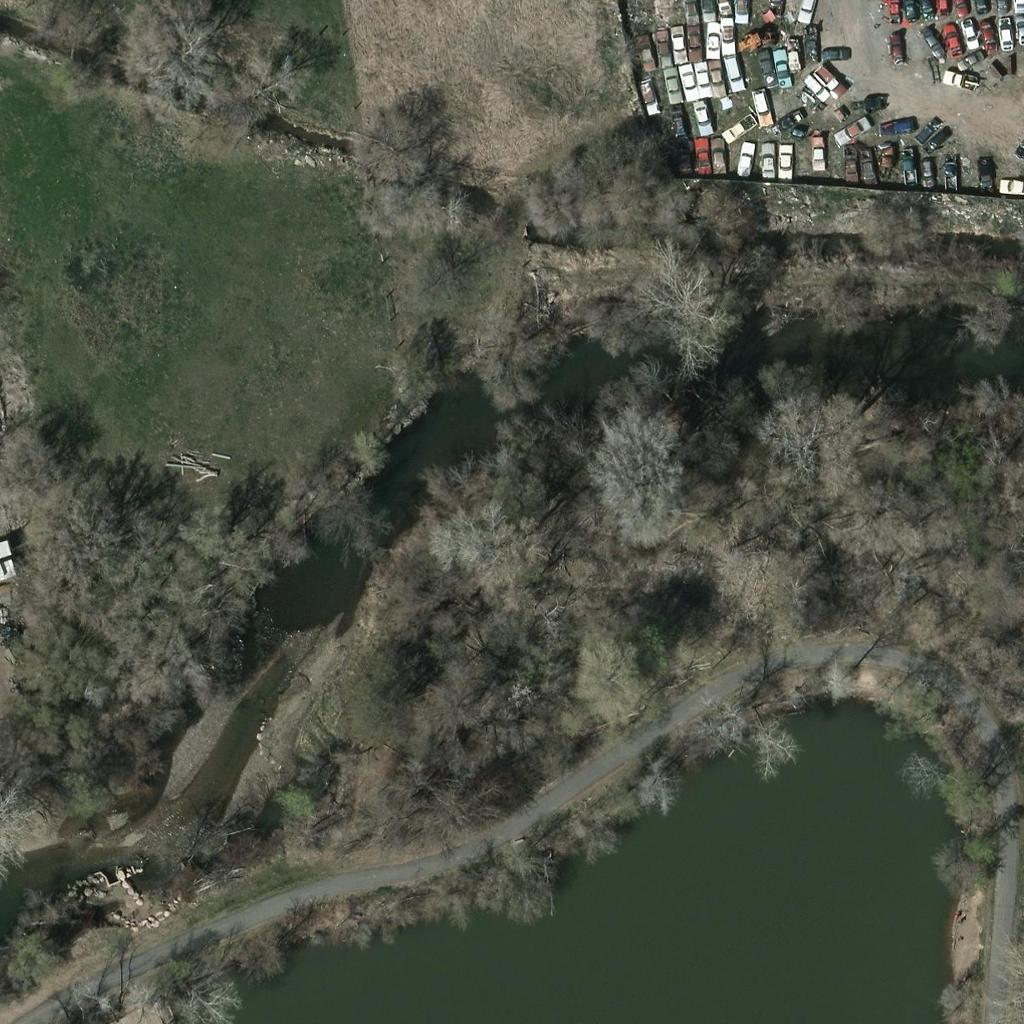car: (952, 13, 986, 47), (709, 15, 743, 49), (970, 16, 1004, 50), (988, 17, 1022, 51), (677, 22, 711, 56), (914, 22, 948, 56), (660, 24, 694, 58), (934, 24, 968, 58), (695, 25, 729, 59), (645, 31, 679, 65), (645, 32, 679, 66), (626, 36, 660, 70), (817, 36, 851, 70), (954, 41, 988, 75), (747, 50, 781, 84), (765, 51, 799, 85), (718, 54, 752, 88), (808, 58, 842, 92), (700, 59, 734, 93), (682, 61, 716, 95), (939, 61, 973, 95), (672, 63, 706, 97), (658, 67, 692, 101), (795, 69, 829, 103), (629, 74, 663, 108), (683, 95, 717, 129), (882, 108, 916, 142), (719, 111, 753, 145), (835, 112, 869, 146), (908, 115, 942, 149), (921, 122, 955, 156), (800, 136, 834, 170), (685, 140, 719, 174), (700, 140, 734, 174), (701, 140, 735, 174), (768, 142, 802, 176), (729, 146, 763, 180), (751, 147, 785, 181), (834, 149, 868, 183), (934, 151, 968, 185), (909, 152, 943, 186), (849, 153, 883, 187), (894, 0, 928, 25), (999, 168, 1024, 202), (672, 0, 706, 24), (789, 0, 823, 20), (925, 0, 959, 20), (690, 0, 724, 19), (726, 0, 760, 19), (963, 0, 997, 16), (985, 0, 1019, 16)
